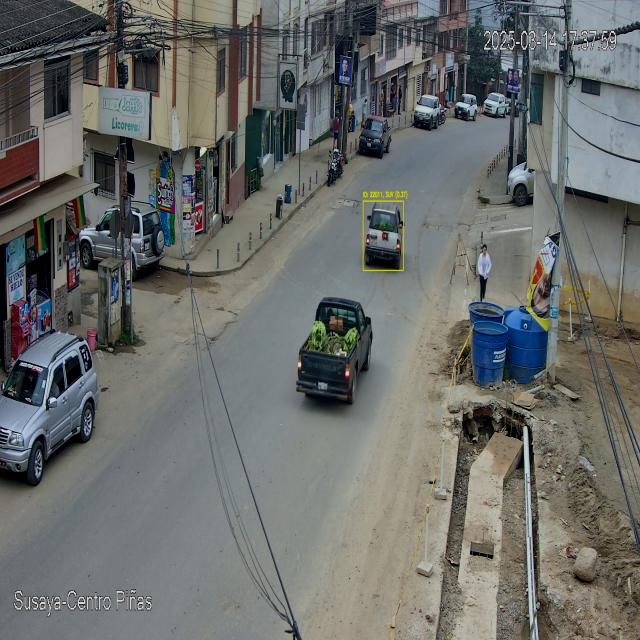CMT: (295, 298, 373, 406)
